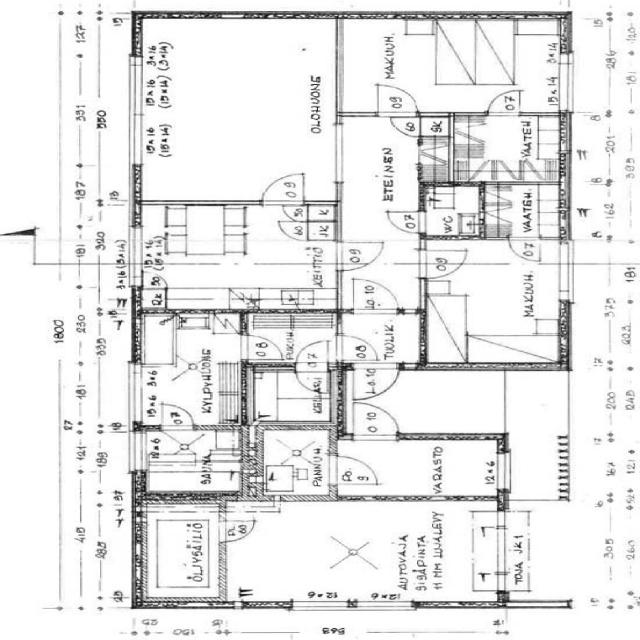door: (336, 318, 412, 363), (349, 400, 403, 441), (293, 336, 332, 392), (348, 277, 400, 314), (256, 170, 309, 206), (331, 452, 383, 488), (352, 363, 402, 400), (372, 82, 420, 116), (335, 239, 385, 271), (420, 250, 470, 280), (240, 332, 287, 362), (383, 208, 427, 236), (156, 401, 197, 431), (484, 88, 524, 116), (337, 333, 378, 360), (293, 368, 331, 396), (507, 236, 543, 263), (223, 517, 256, 542), (388, 114, 422, 137), (276, 220, 309, 241), (138, 269, 168, 290), (476, 573, 509, 591)
window: (477, 518, 511, 578), (123, 55, 148, 121), (553, 240, 577, 301), (124, 109, 149, 167), (557, 53, 581, 113), (326, 122, 349, 184), (125, 362, 145, 426), (288, 598, 354, 613), (126, 430, 148, 475), (494, 448, 516, 492), (352, 598, 416, 612)
zone: (136, 19, 334, 204), (338, 17, 560, 111), (140, 206, 336, 308), (424, 240, 565, 363), (139, 315, 248, 430), (450, 115, 562, 183), (140, 504, 218, 600), (248, 368, 337, 426), (420, 438, 502, 499), (262, 429, 333, 498), (244, 311, 337, 362), (336, 311, 422, 366), (482, 184, 566, 240), (139, 454, 245, 498), (422, 184, 484, 240), (329, 453, 383, 488)
